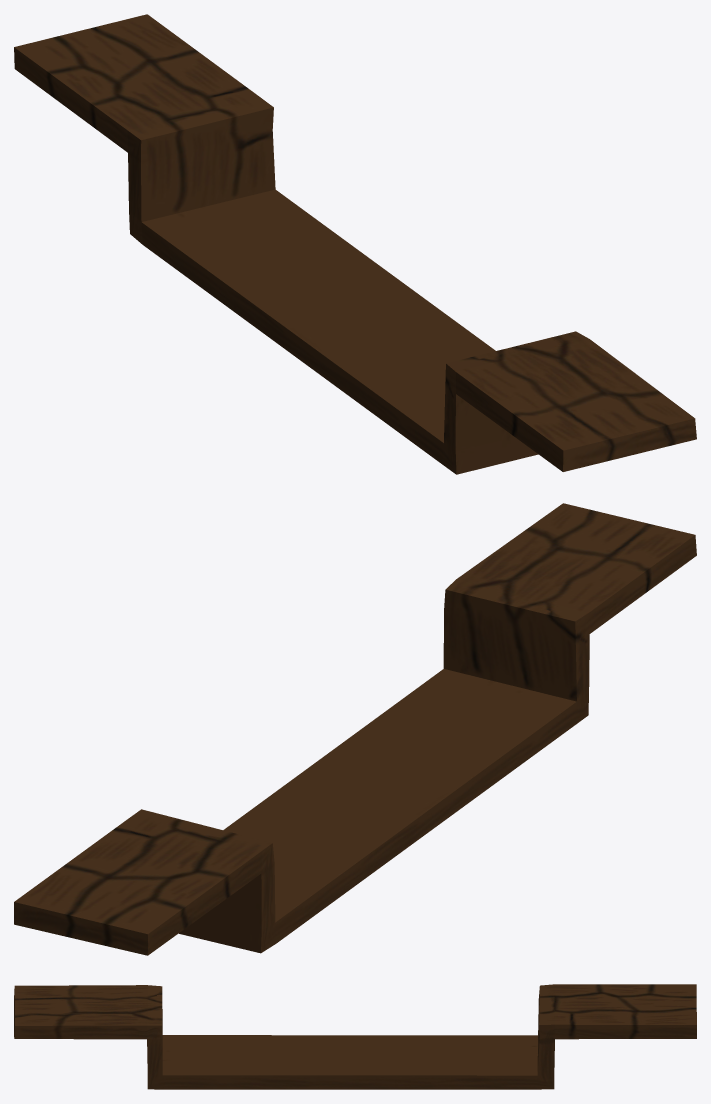
The model's file is Spike_Platform_1.fbx.
3 renders of one model, top to bottom at view 1: azimuth 30°, elevation 25°; view 2: azimuth 150°, elevation 25°; view 3: azimuth 270°, elevation 25°, orthographic. The views are drawn at different scales.
Visible parts, largest first — view 1: Spike_Pit_Platform_1:ZBrushPolyMesh3D; view 2: Spike_Pit_Platform_1:ZBrushPolyMesh3D; view 3: Spike_Pit_Platform_1:ZBrushPolyMesh3D.
Part boxes in pixels (bbox=[...]): Spike_Pit_Platform_1:ZBrushPolyMesh3D: bbox=[14, 14, 696, 474]; Spike_Pit_Platform_1:ZBrushPolyMesh3D: bbox=[14, 503, 696, 955]; Spike_Pit_Platform_1:ZBrushPolyMesh3D: bbox=[14, 984, 696, 1089].
Bounding box in the file's own units: 1.94 × 1.45 × 13.79.
